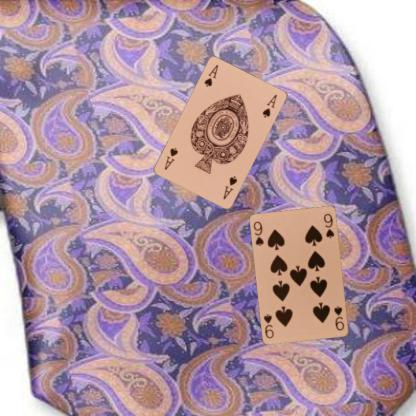9s: (332, 303, 346, 332), (251, 219, 265, 247)
As: (220, 174, 238, 200), (202, 62, 220, 88)
